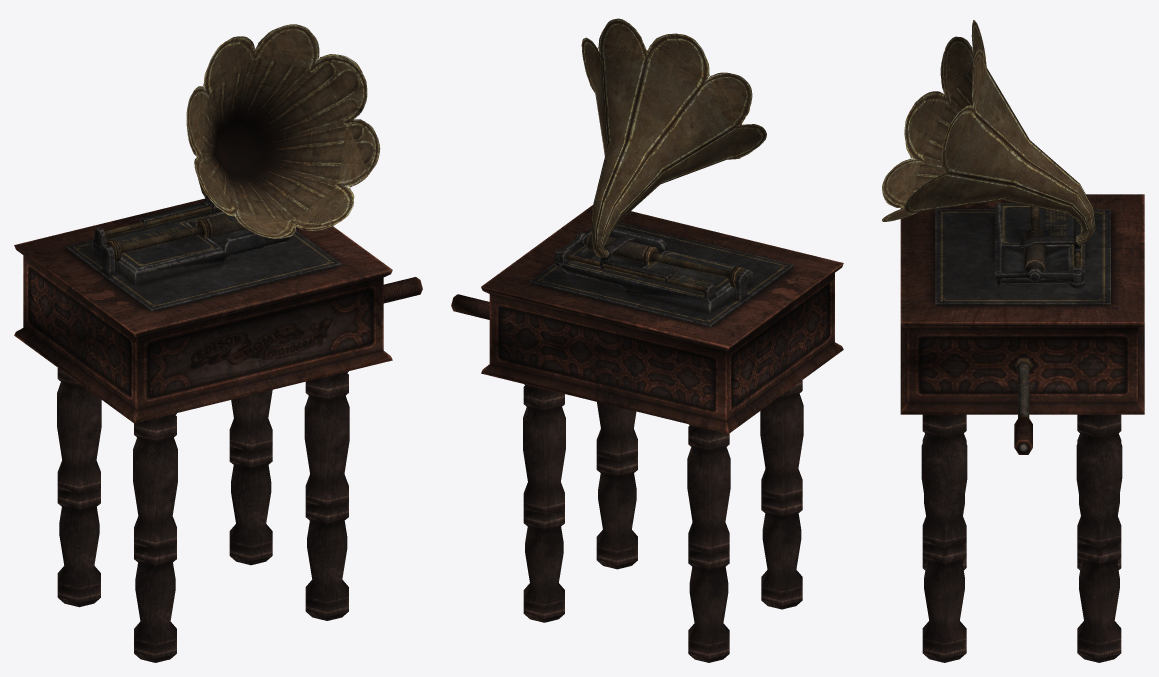
Rendered from phonograph.dae.
3 renders of one model, left to right at view 1: azimuth 30°, elevation 25°; view 2: azimuth 150°, elevation 25°; view 3: azimuth 270°, elevation 25°, orthographic. The views are drawn at different scales.
Visible parts, largest first — view 1: polySurface21, polySurface20, polySurface19, pCylinder10; view 2: polySurface21, polySurface19, pCylinder10; view 3: polySurface21, polySurface19, polySurface20, pCylinder10.
Part boxes in pixels (x1,y1,x2,y2): polySurface21: [14, 198, 392, 662]; polySurface20: [186, 25, 379, 238]; polySurface19: [140, 24, 380, 238]; pCylinder10: [383, 277, 422, 303]; polySurface21: [481, 205, 843, 662]; polySurface19: [581, 18, 766, 284]; pCylinder10: [451, 294, 489, 319]; polySurface21: [900, 194, 1144, 662]; polySurface19: [882, 20, 1095, 256]; polySurface20: [882, 21, 985, 221]; pCylinder10: [1013, 357, 1033, 454].
Size of the model in its own units: 0.9859 by 1.64 by 0.6642.
